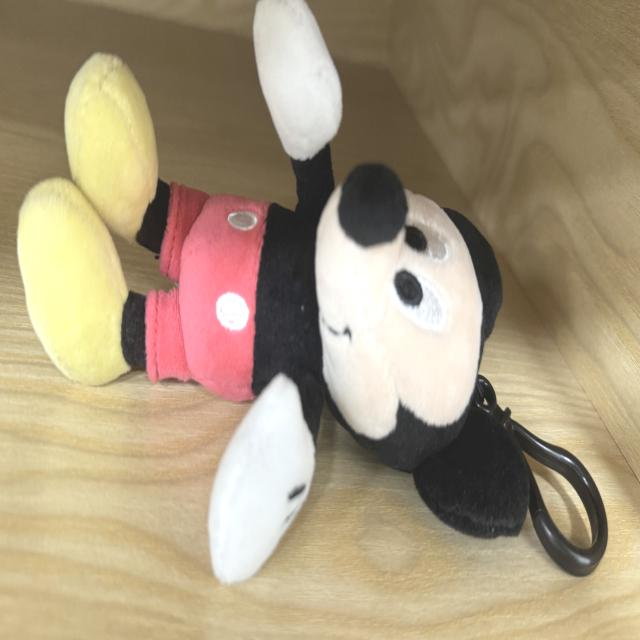mickey: (18, 0, 528, 582)
